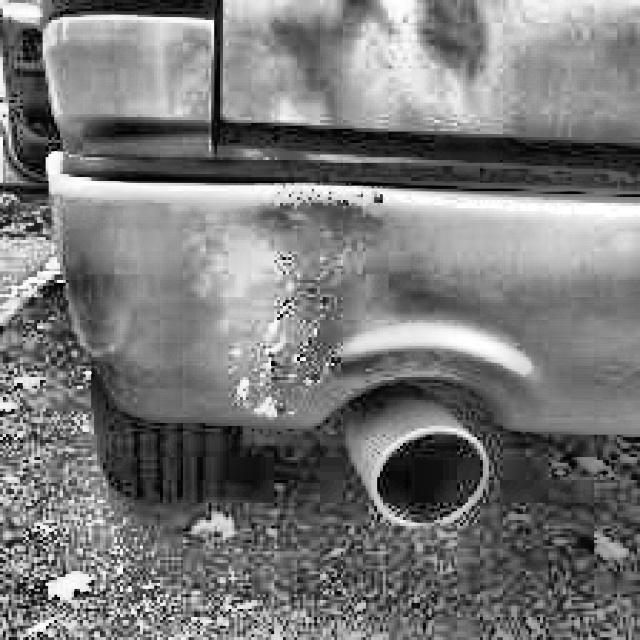bumper_dent: (240, 190, 383, 421), (273, 5, 498, 140)
